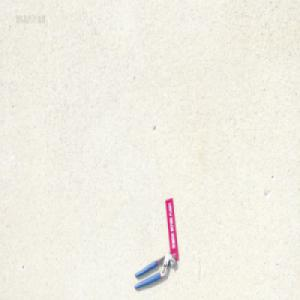Label: (165, 197, 178, 259)
Pliers: (134, 251, 176, 288)
